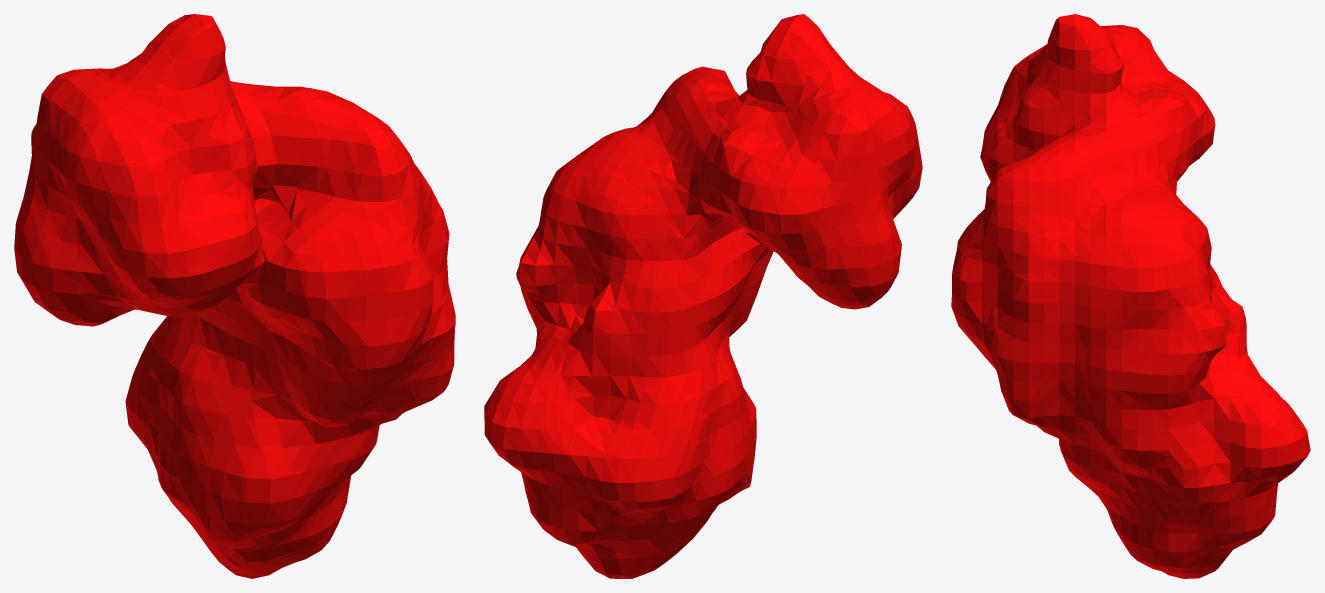
File: yhaJ_coarse.dae
3 renders of one model, left to right at view 1: azimuth 30°, elevation 25°; view 2: azimuth 150°, elevation 25°; view 3: azimuth 270°, elevation 25°, orthographic. The views are drawn at different scales.
Visible parts, largest first — view 1: yhaJ; view 2: yhaJ; view 3: yhaJ.
Part boxes in pixels (x1,y1,x2,y2): yhaJ: (14, 14, 455, 578); yhaJ: (484, 14, 922, 578); yhaJ: (951, 14, 1310, 578).
Size of the model in its own units: 55.41 by 83.86 by 53.56.
